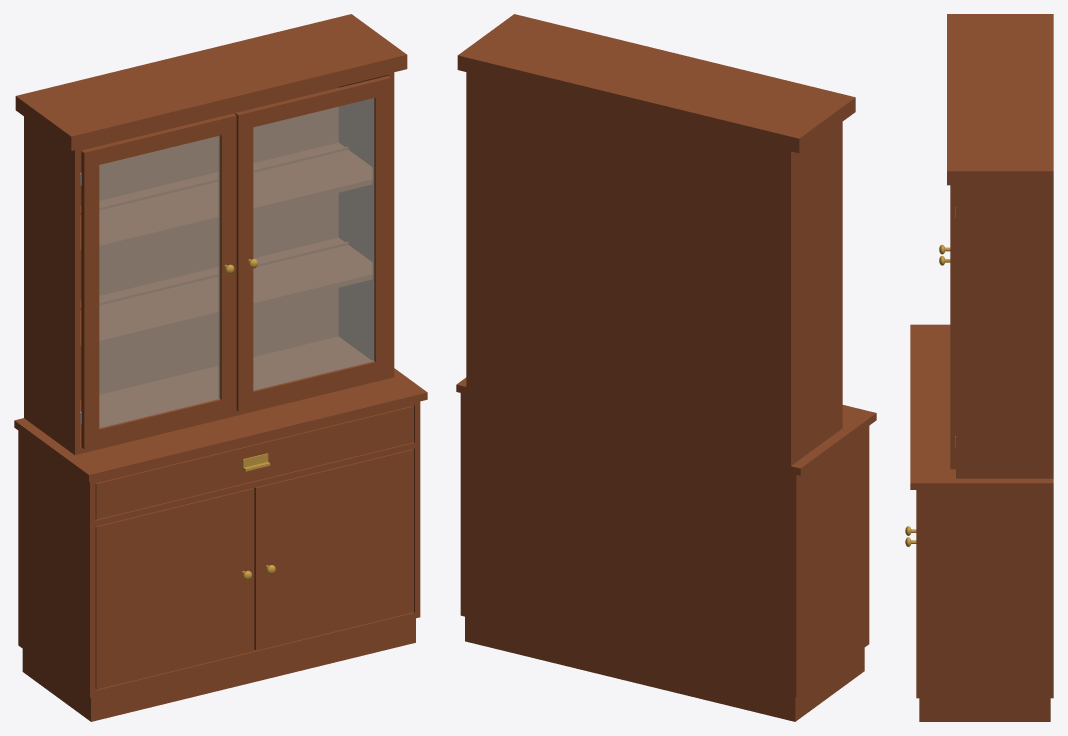
Rendered from 023_china_hutch.glb.
3 renders of one model, left to right at view 1: azimuth 30°, elevation 25°; view 2: azimuth 150°, elevation 25°; view 3: azimuth 270°, elevation 25°, orthographic. The views are drawn at different scales.
Parts seen in each view (by area): view 1: 049_upper_door_2_glass_panel, 040_upper_door_1_glass_panel, 030_carcass_back_panel, 021_lower_door_2_panel, 016_lower_door_1_panel, 031_cornice, 026_carcass_side_l, 001_carcass_side_l, 006_base_top_counter, 007_drawer_1_front, 034_upper_shelf_2, 032_upper_shelf_1 (+17 smaller); view 2: 030_carcass_back_panel, 005_carcass_back_panel, 031_cornice, 026_carcass_side_l, 001_carcass_side_l, 000_plinth, 006_base_top_counter, 003_carcass_top, 028_carcass_top, 027_carcass_side_r, 002_carcass_side_r; view 3: 002_carcass_side_r, 027_carcass_side_r, 031_cornice, 006_base_top_counter, 000_plinth, 046_upper_door_2_stile_r.
Boxes of the visible parts, bbox=[...] form: 049_upper_door_2_glass_panel: bbox=[253, 98, 374, 390]; 040_upper_door_1_glass_panel: bbox=[99, 136, 219, 427]; 030_carcass_back_panel: bbox=[80, 87, 338, 399]; 021_lower_door_2_panel: bbox=[254, 449, 413, 650]; 016_lower_door_1_panel: bbox=[95, 488, 254, 689]; 031_cornice: bbox=[15, 14, 407, 150]; 026_carcass_side_l: bbox=[24, 116, 80, 454]; 001_carcass_side_l: bbox=[18, 431, 95, 697]; 006_base_top_counter: bbox=[14, 368, 427, 482]; 007_drawer_1_front: bbox=[95, 406, 413, 519]; 034_upper_shelf_2: bbox=[80, 142, 372, 255]; 032_upper_shelf_1: bbox=[80, 237, 372, 350]; 030_carcass_back_panel: bbox=[471, 79, 785, 464]; 005_carcass_back_panel: bbox=[466, 400, 790, 695]; 031_cornice: bbox=[457, 14, 855, 153]; 026_carcass_side_l: bbox=[785, 122, 842, 465]; 001_carcass_side_l: bbox=[791, 428, 869, 697]; 000_plinth: bbox=[465, 616, 864, 721]; 006_base_top_counter: bbox=[456, 377, 876, 475]; 003_carcass_top: bbox=[461, 393, 869, 479]; 028_carcass_top: bbox=[466, 72, 796, 156]; 027_carcass_side_r: bbox=[466, 72, 471, 388]; 002_carcass_side_r: bbox=[460, 393, 466, 616]; 002_carcass_side_r: bbox=[916, 490, 1053, 698]; 027_carcass_side_r: bbox=[956, 185, 1053, 478]; 031_cornice: bbox=[947, 14, 1053, 185]; 006_base_top_counter: bbox=[910, 324, 1053, 489]; 000_plinth: bbox=[919, 698, 1050, 721]; 046_upper_door_2_stile_r: bbox=[950, 185, 955, 469].
Size of the model in its own units: 1.23 by 2 by 0.486.
